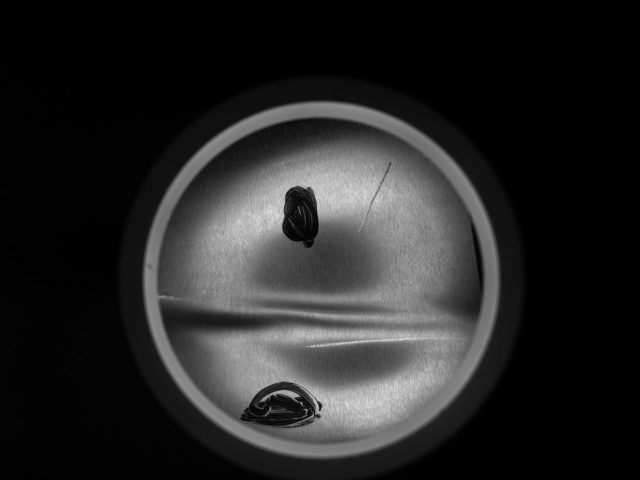ca_shang: (356, 159, 394, 243)
zang_wu: (239, 379, 331, 430), (278, 185, 327, 248)
zhe_zhou: (203, 147, 445, 410)
